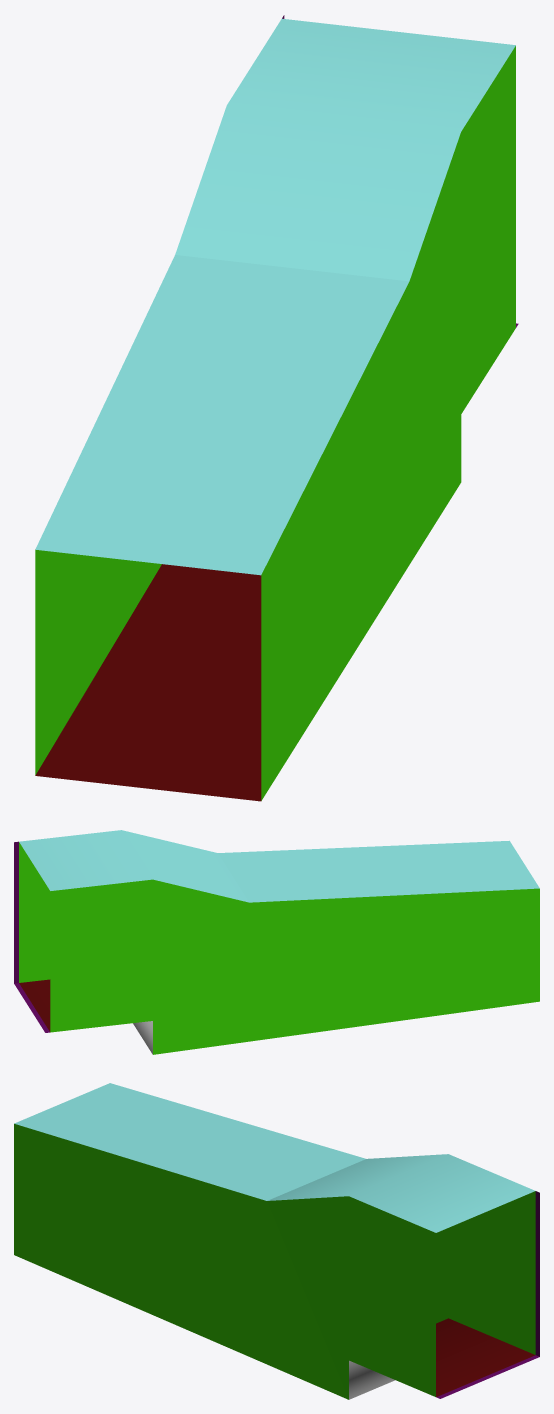
Rendered from Corridor_Room_v1.0.fbx.
The picture shows the model from 3 angles, top to bottom: view 1: azimuth 30°, elevation 25°; view 2: azimuth 150°, elevation 25°; view 3: azimuth 270°, elevation 25°; orthographic projection. The views are drawn at different scales.
Parts seen in each view (by area): view 1: Corridor_R3; view 2: Corridor_R3; view 3: Corridor_R3.
Boxes of the visible parts, x1,y1,x2,y2 form: Corridor_R3: (35, 15, 518, 801); Corridor_R3: (14, 830, 539, 1054); Corridor_R3: (14, 1083, 539, 1399).
Bounding box in the file's own units: 1421 × 620 × 1451.
